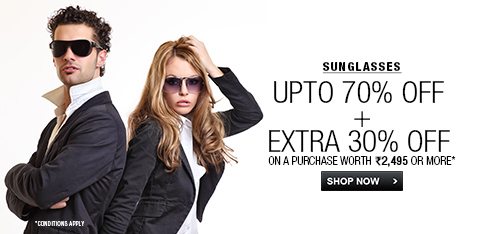sunglasses: (44, 40, 99, 60), (154, 76, 208, 96)
